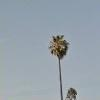Palm tree: (44, 27, 83, 96)
